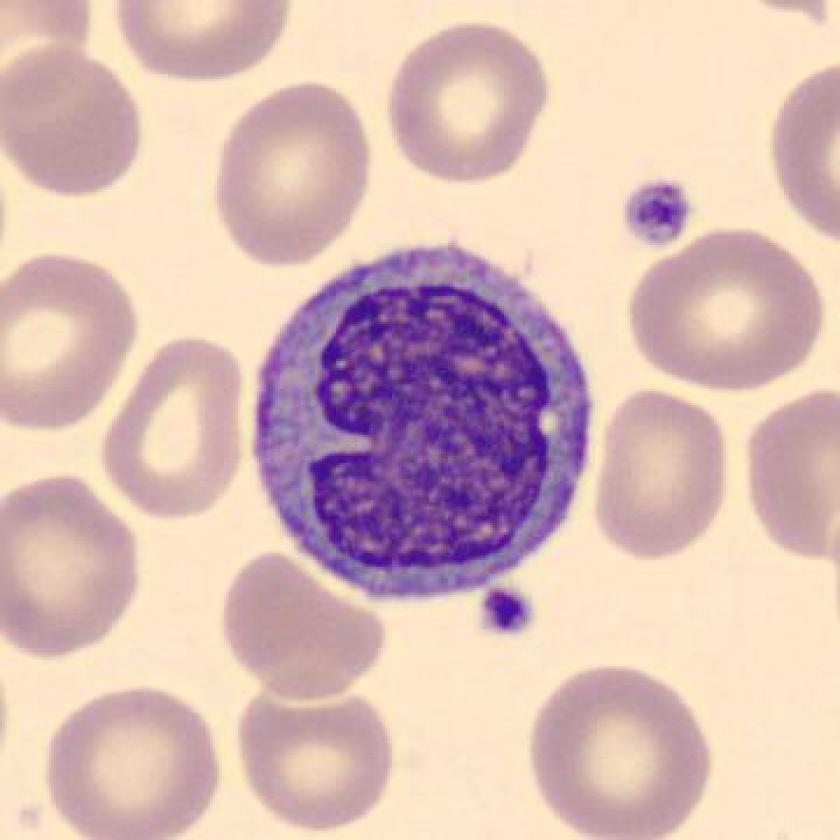monocyte: (232, 221, 622, 628)
